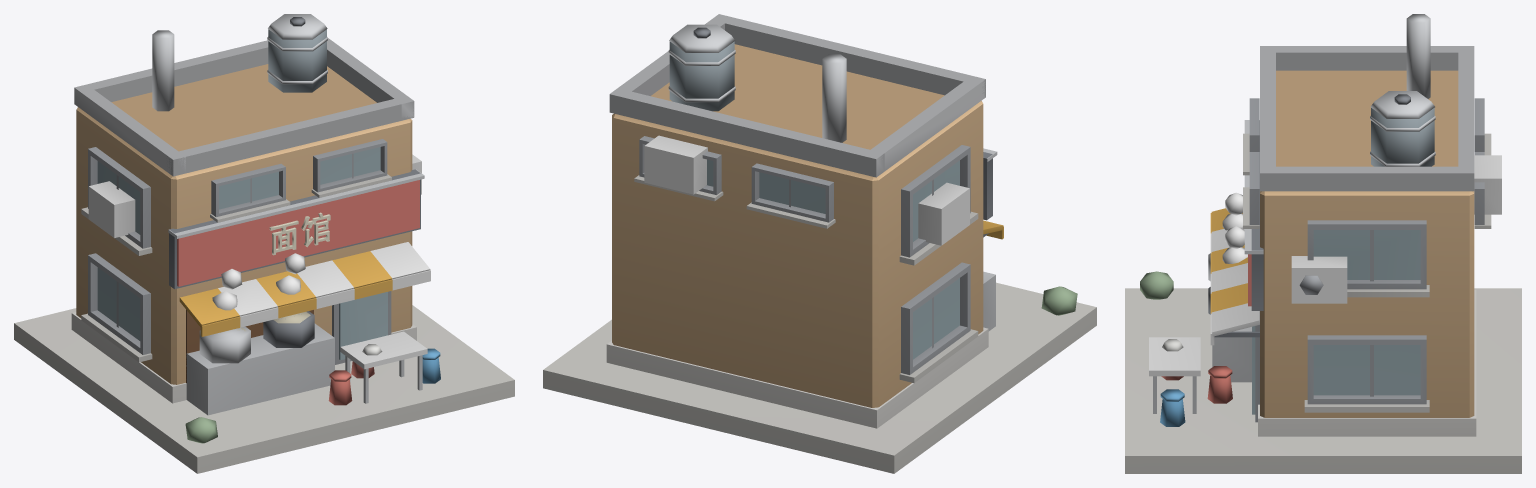
The model's file is noodle.glb.
3 views of the same model, side by side, from view 1: azimuth 30°, elevation 25°; view 2: azimuth 150°, elevation 25°; view 3: azimuth 270°, elevation 25° (orthographic). The views are drawn at different scales.
Visible parts, largest first — view 1: noodle; view 2: noodle; view 3: noodle.
Boxes of the visible parts, x1,y1,x2,y2 form: noodle: [14, 14, 514, 473]; noodle: [543, 14, 1096, 473]; noodle: [1125, 14, 1521, 473].
Bounding box in the file's own units: 1 × 0.95 × 1.
